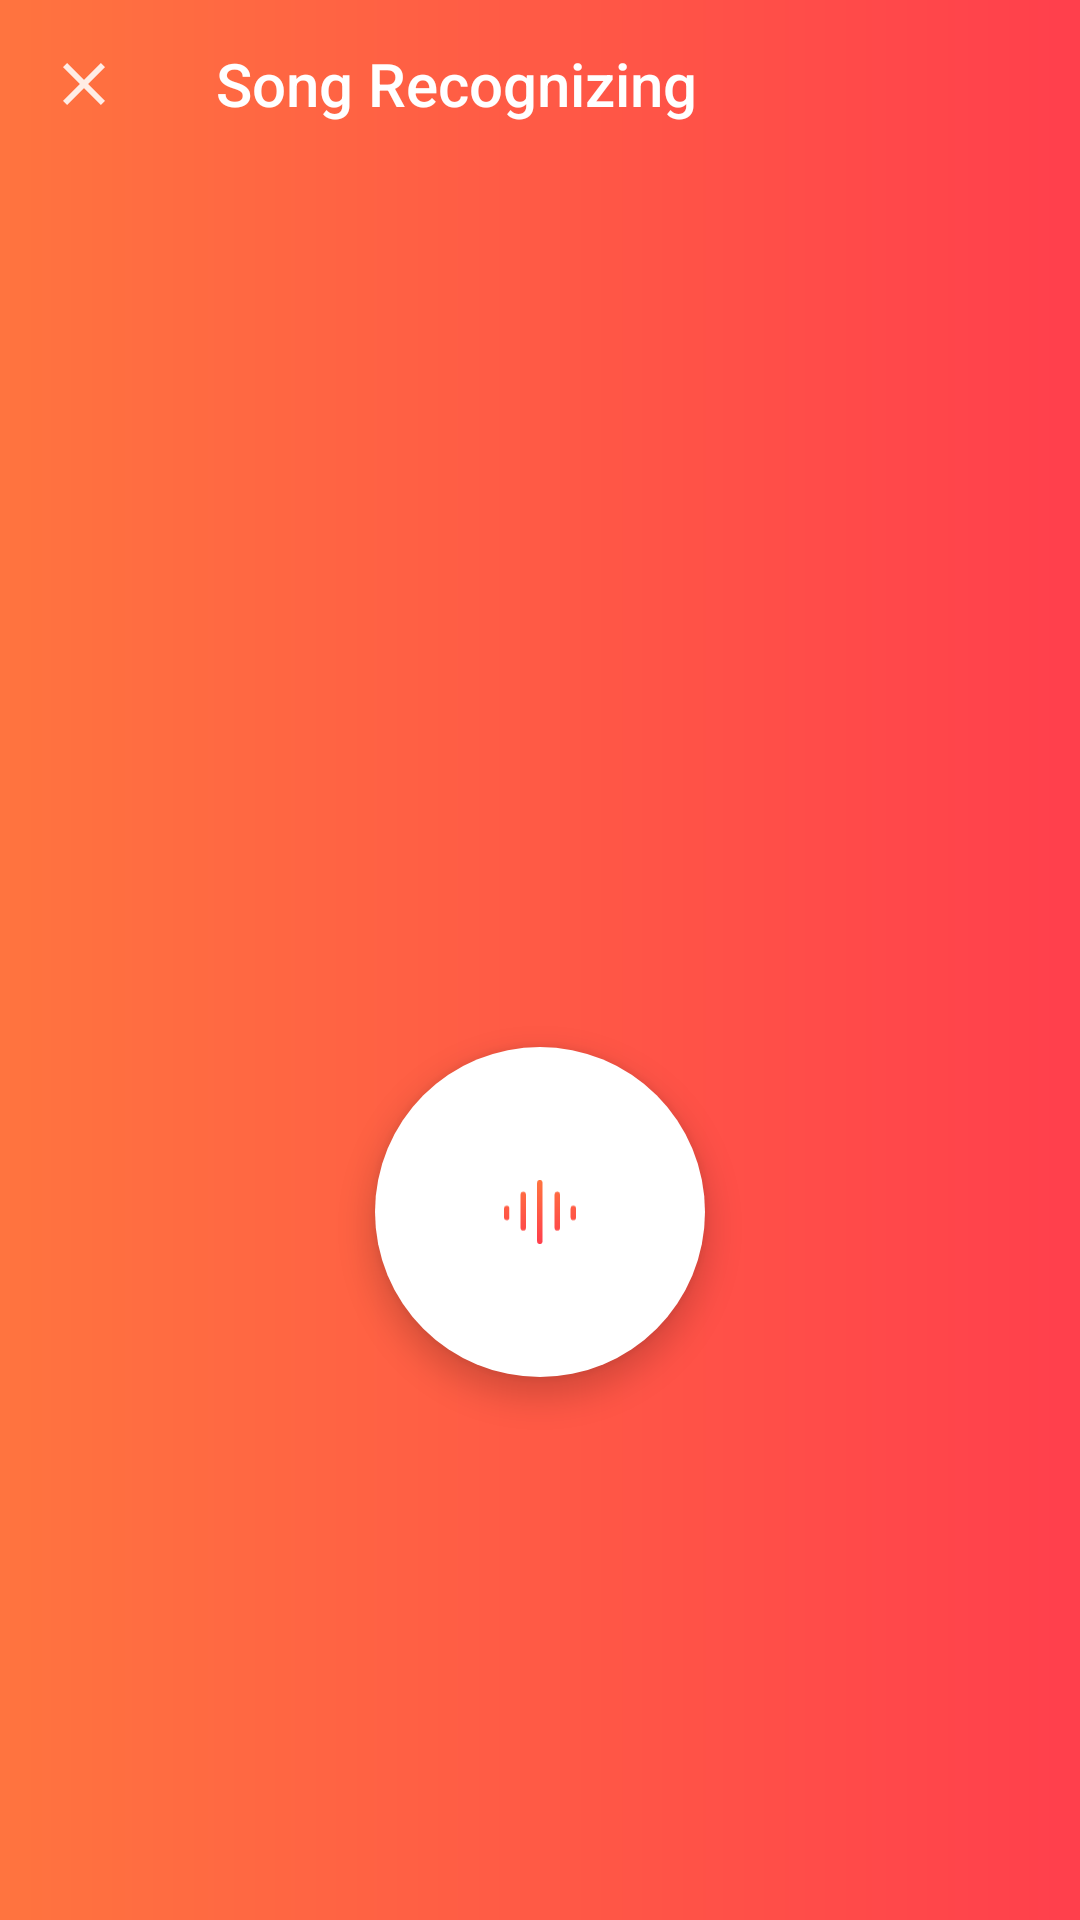

Icon bounding boxes for this 1080px x 1920px phone screenshot, format (x1=x1, y1=y1, x2=x2, y2=y2):
sound: (x1=375, y1=1047, x2=705, y2=1377)
